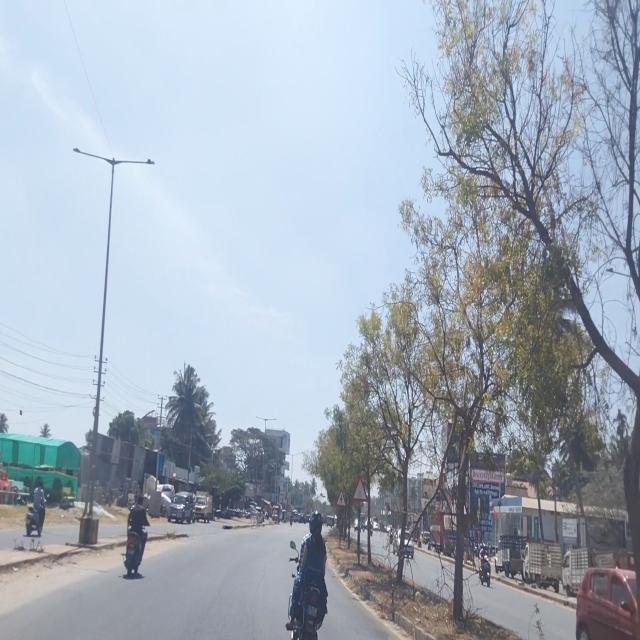bien_cam: (352, 472, 368, 502), (336, 487, 347, 507)
